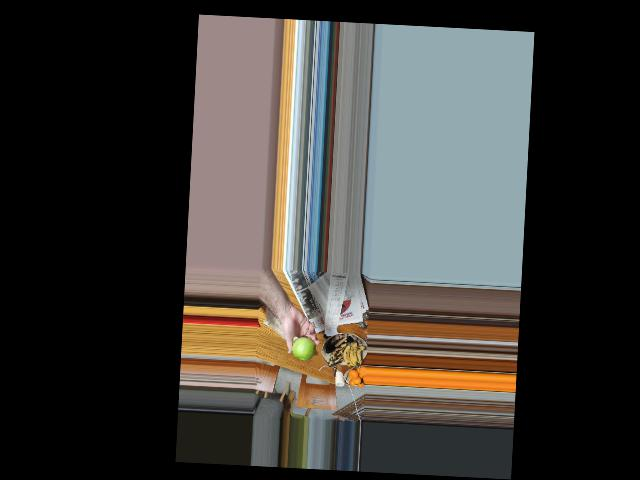apple: (291, 334, 317, 360)
